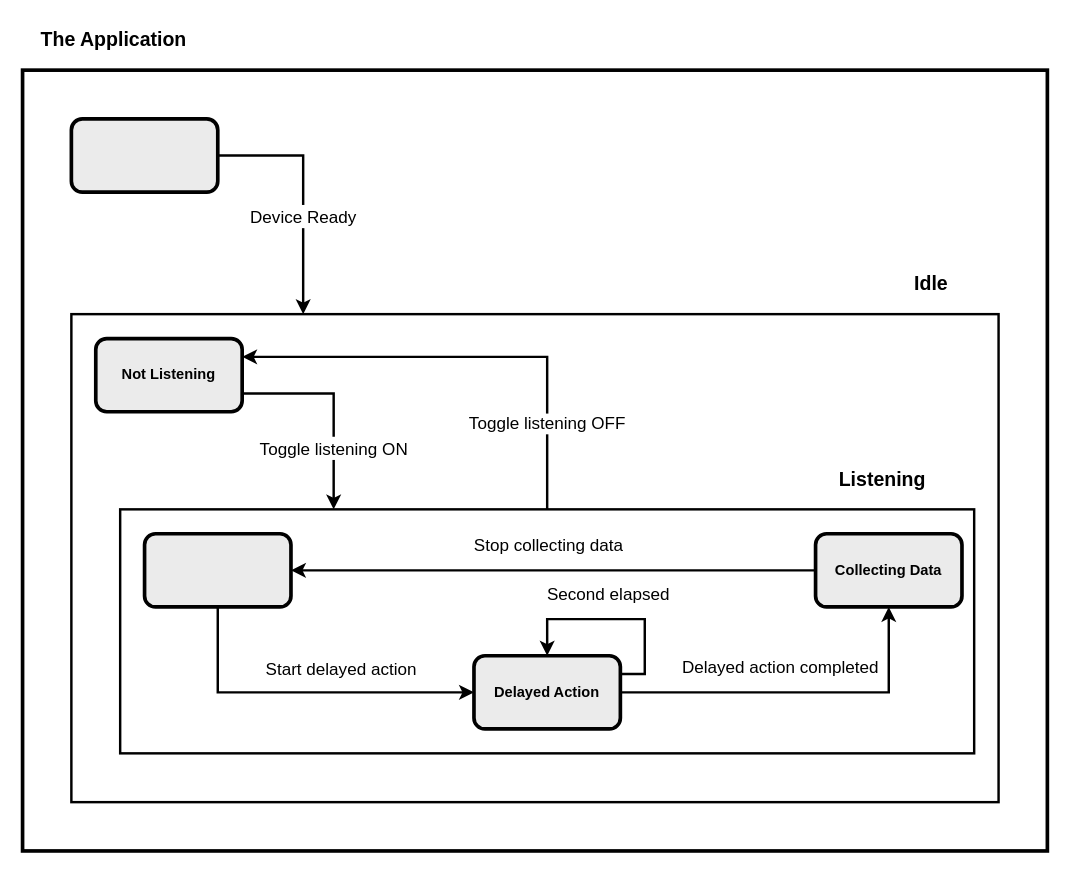
The diagram is 1070 pixels wide and 874 high, and some of its shapes have lost their labels. The centre of each missing label's shape, as x and y in pixels:
Loading: (144,155)
Not Collecting: (217,569)
